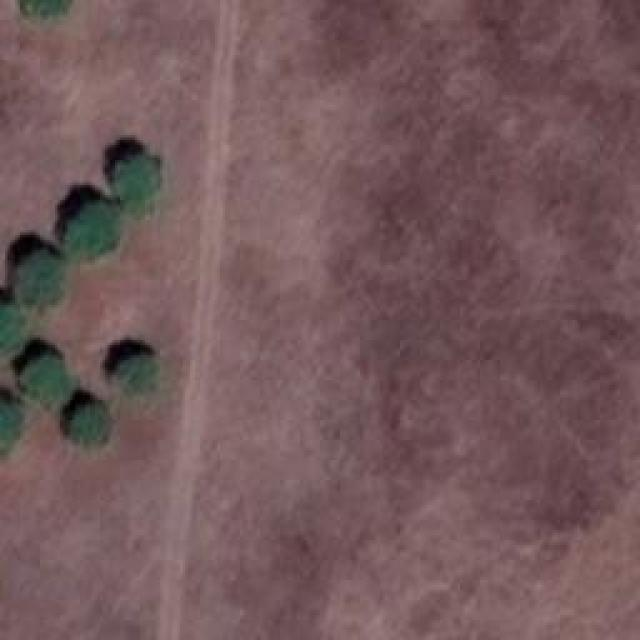Tree: (68, 205, 121, 260), (15, 253, 68, 303), (115, 152, 158, 210), (23, 355, 68, 403), (73, 402, 113, 440), (118, 355, 158, 390)
